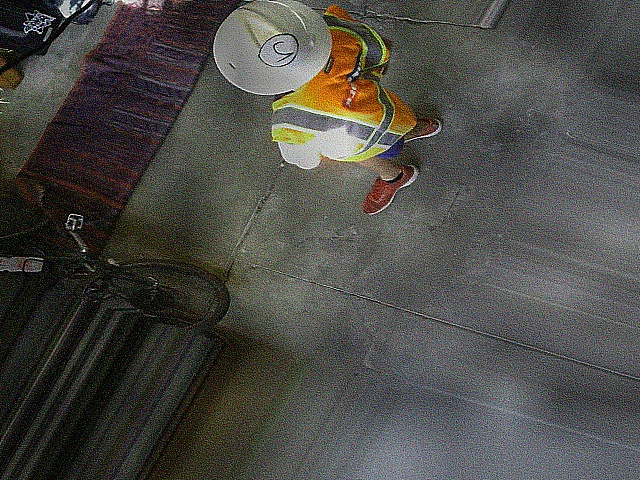two: (253, 27, 306, 70)
